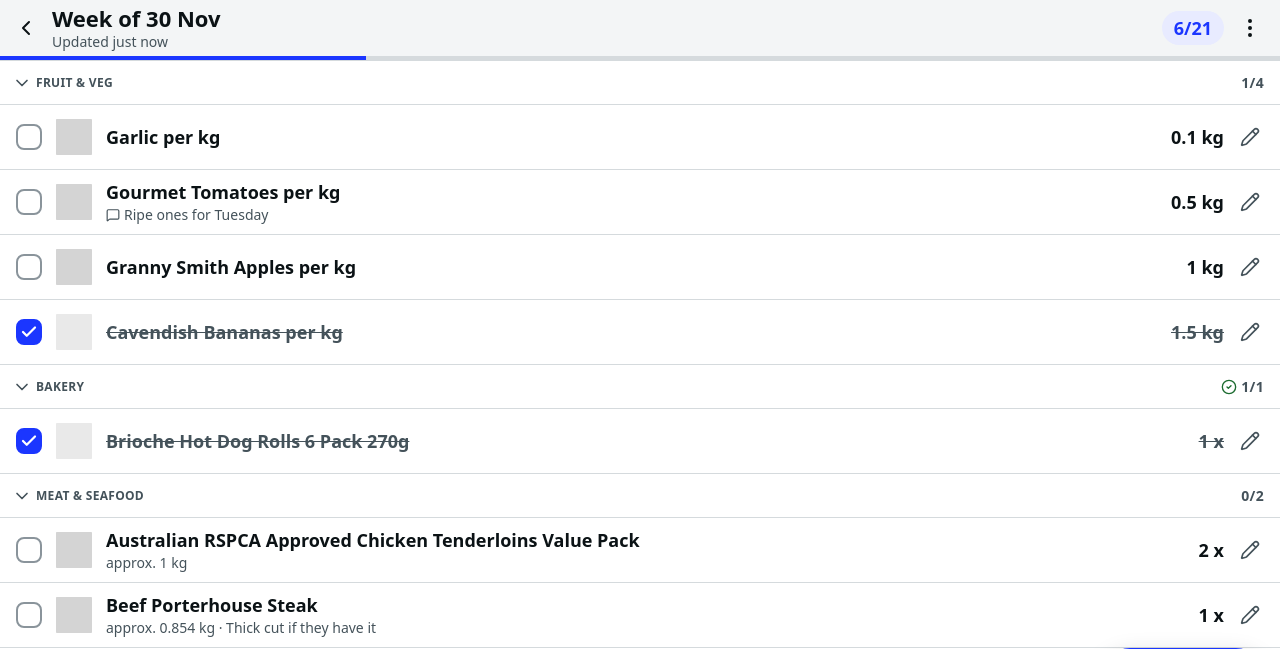
Test case: Suggest items sheet › groups by aisle, pre-ticks, shows the server reason as sent, and Weekly badges
The width and height of the screenshot is (1280, 649).
Check: the heading "Week of 30 Nov" is shown, box top-left (52, 3), bottom-right (220, 33)
Click the link named "Back to lists": [26, 28] box top-left (14, 16), bottom-right (38, 40)
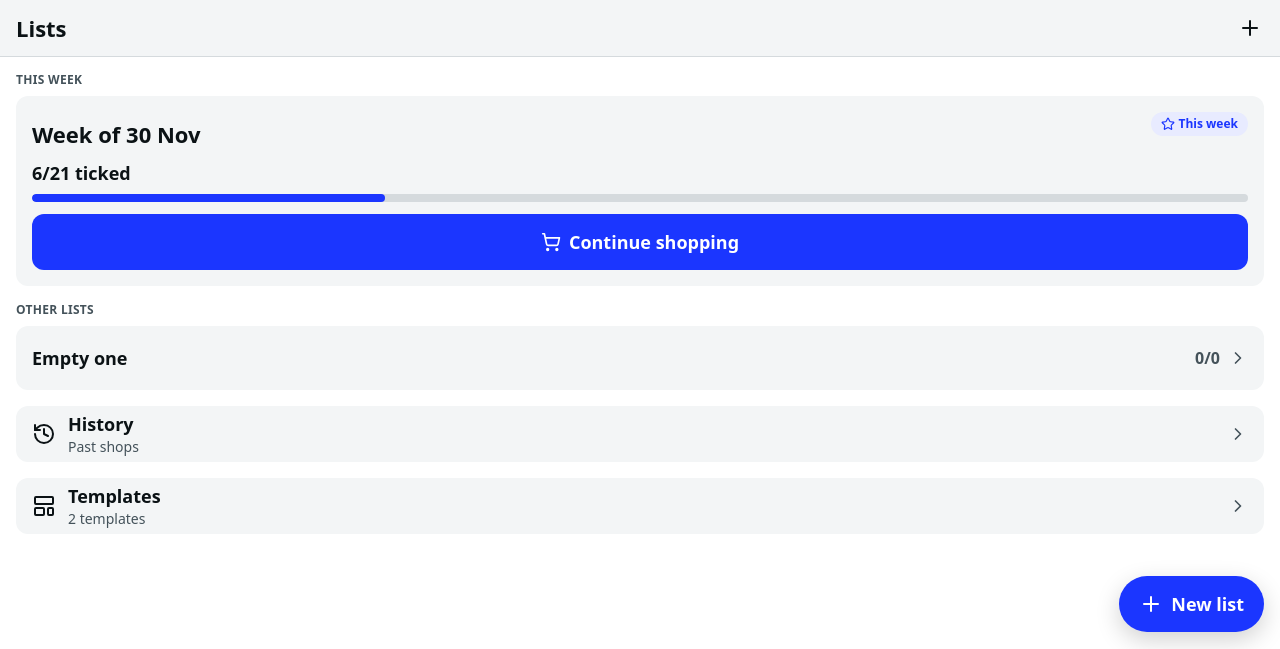
Click the link "Empty one 0/0": [80, 358] box top-left (31, 346), bottom-right (1248, 380)
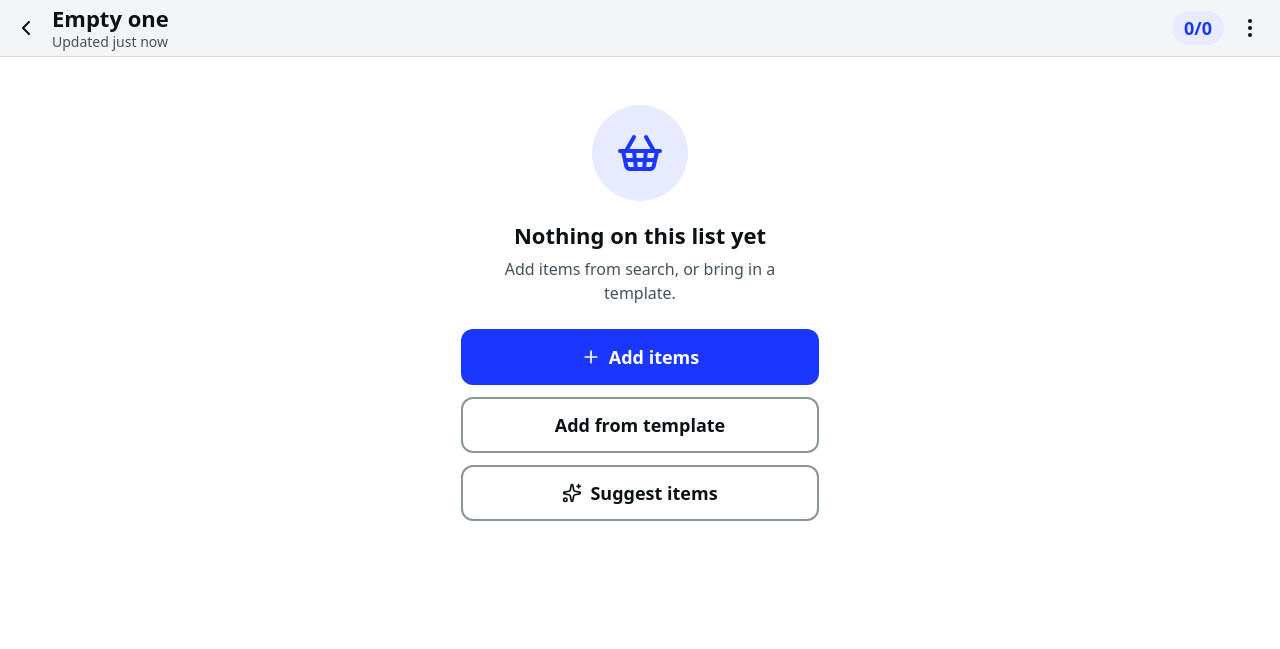
Check: the heading "Empty one" is shown, box top-left (52, 3), bottom-right (169, 33)
Click the button "Suggest items": [640, 493] box top-left (461, 465), bottom-right (819, 521)
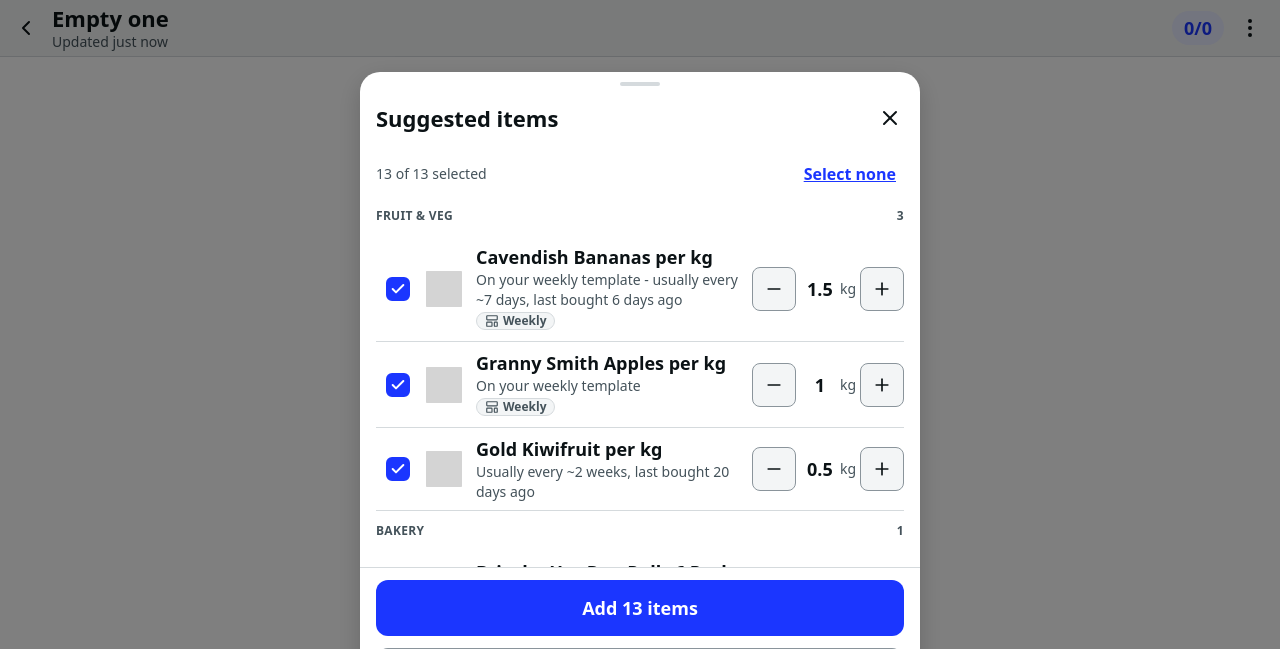
Check: the checkbox that starts with "Cavendish Bananas per kg" is shown, box top-left (376, 236), bottom-right (748, 341)
Check: the element named "." is shown, box top-left (376, 196), bottom-right (904, 511)
Check: the 1st text "Weekly" is shown, box top-left (476, 312), bottom-right (556, 330)
